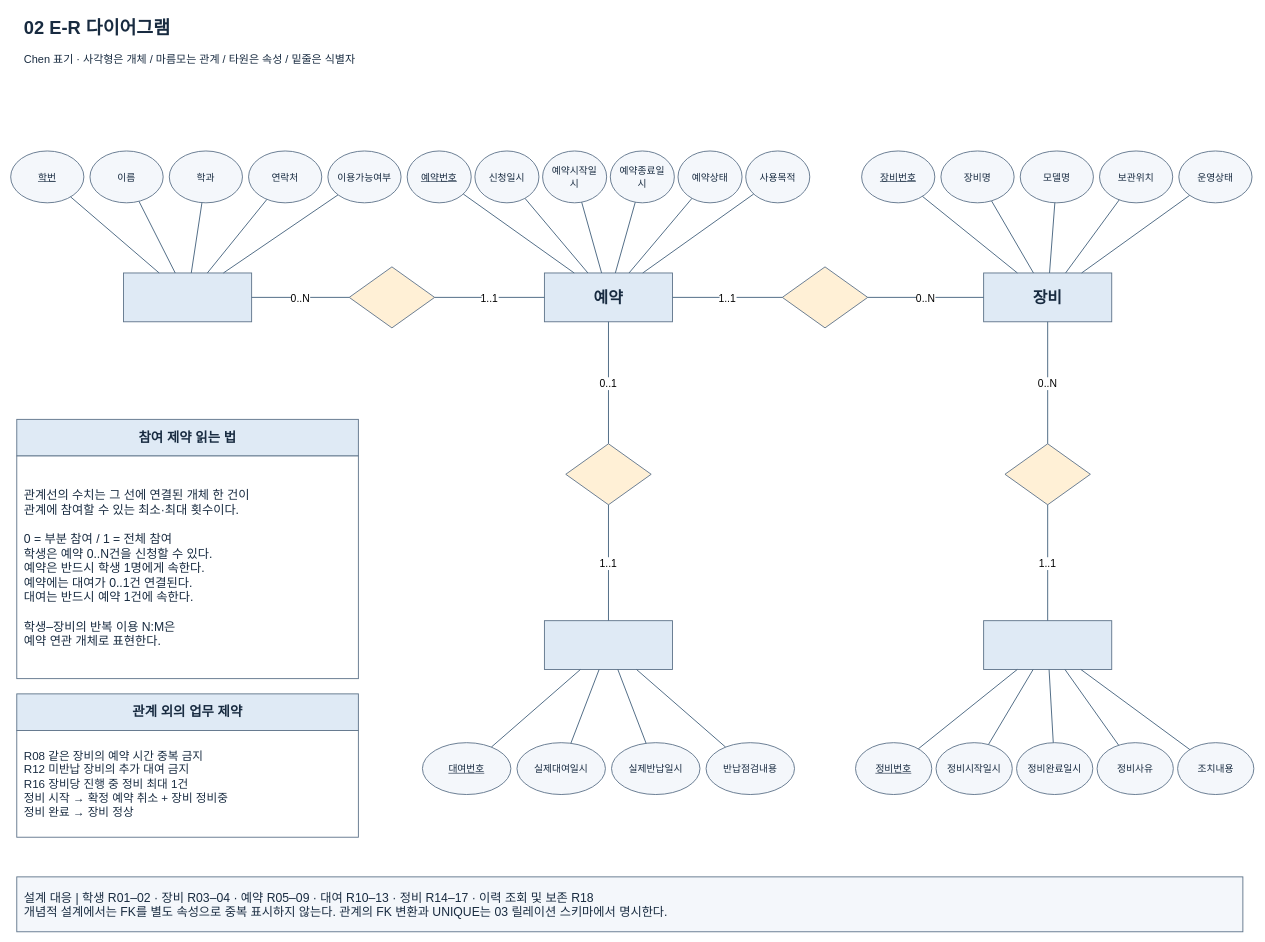
This 1265x942 diagram has some shape labels left out. Each missing label, with the centre of its shape:
"대여" belongs at [608,645].
"배정" belongs at [825,297].
"신청" belongs at [391,297].
"전환" belongs at [608,474].
"정비" belongs at [1047,645].
"정비 이력" belongs at [1047,474].
"학생" belongs at [187,297].
